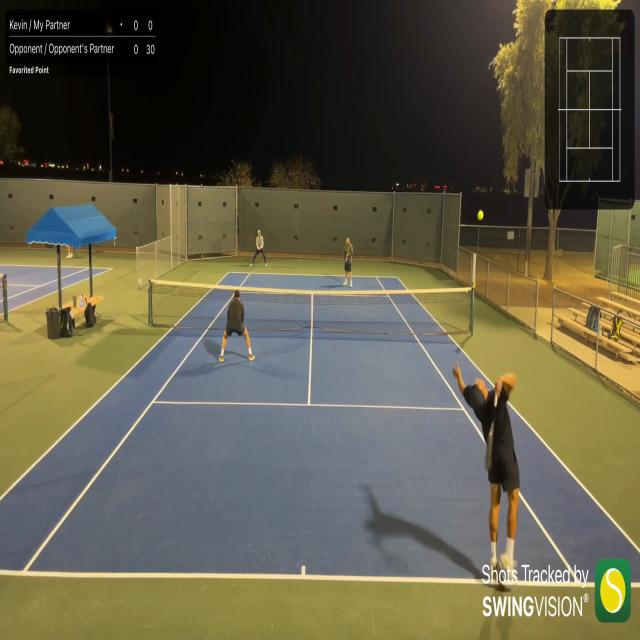ball: (477, 209, 484, 221)
